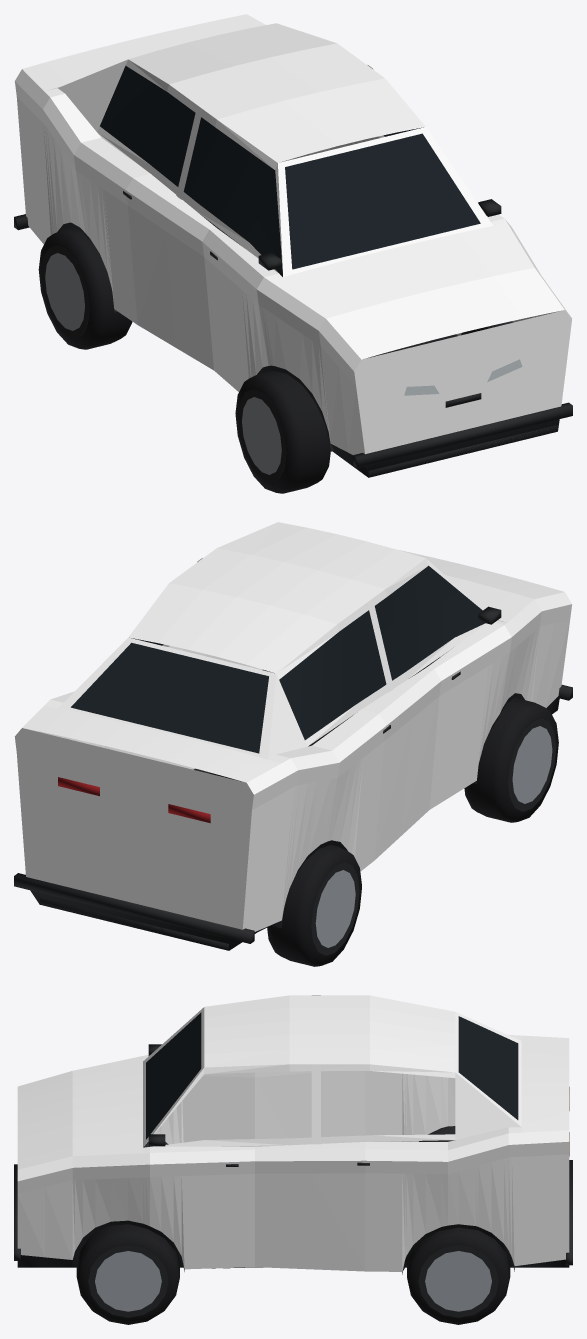
File: keldorf_baluar.glb
3 views of the same model, one above another, from view 1: azimuth 30°, elevation 25°; view 2: azimuth 150°, elevation 25°; view 3: azimuth 270°, elevation 25° (orthographic). The views are drawn at different scales.
Visible parts, largest first — view 1: Body_Paint, Body_Details, Mount_FrontLeft_Wheel_Details, Mount_RearLeft_Wheel_Details; view 2: Body_Paint, Body_Details, Mount_FrontLeft_Wheel_Details, Mount_RearLeft_Wheel_Details; view 3: Body_Paint, Body_Details, Mount_FrontRight_Wheel_Details, Mount_RearRight_Wheel_Details.
Part boxes in pixels (bbox=[...]): Body_Paint: bbox=[14, 14, 571, 455]; Body_Details: bbox=[14, 65, 572, 477]; Mount_FrontLeft_Wheel_Details: bbox=[235, 370, 330, 493]; Mount_RearLeft_Wheel_Details: bbox=[38, 227, 132, 349]; Body_Paint: bbox=[14, 522, 572, 931]; Body_Details: bbox=[14, 565, 572, 950]; Mount_FrontLeft_Wheel_Details: bbox=[464, 698, 558, 822]; Mount_RearLeft_Wheel_Details: bbox=[267, 845, 361, 966]; Body_Paint: bbox=[17, 995, 569, 1271]; Body_Details: bbox=[14, 1012, 572, 1274]; Mount_FrontRight_Wheel_Details: bbox=[76, 1224, 179, 1324]; Mount_RearRight_Wheel_Details: bbox=[407, 1227, 510, 1324].
Size of the model in its own units: 2.06 by 2.12 by 4.39.
Materials: 2 (1 with a texture image).
